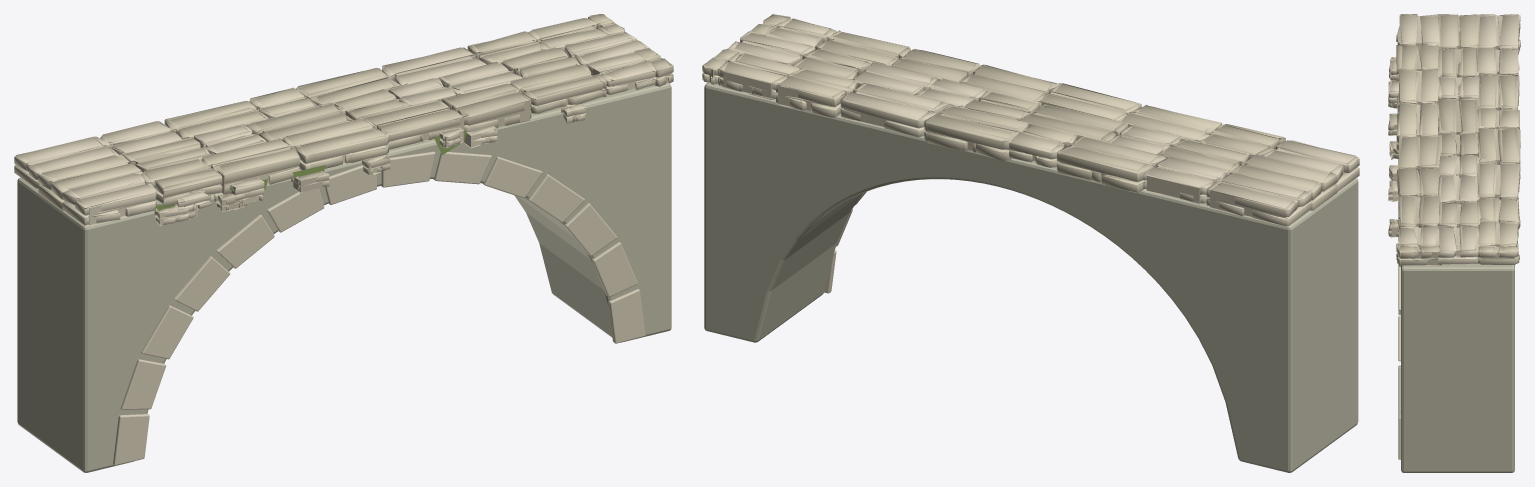
Rendered from bridge-11.glb.
3 views of the same model, side by side, from view 1: azimuth 30°, elevation 25°; view 2: azimuth 150°, elevation 25°; view 3: azimuth 270°, elevation 25° (orthographic). The views are drawn at different scales.
Parts seen in each view (by area): view 1: Continuous arch foundation.010, CC0 worn paving.207, CC0 worn paving.204, CC0 worn paving.206, CC0 worn paving.208, CC0 worn paving.210, CC0 worn paving.209, CC0 worn paving.222, CC0 worn paving.213, CC0 worn paving.205, CC0 worn paving.227, CC0 worn paving.226 (+29 smaller); view 2: Continuous arch foundation.010, CC0 worn paving.224, CC0 worn paving.222, CC0 worn paving.226, CC0 worn paving.227, CC0 worn paving.228, CC0 worn paving.223, CC0 worn paving.213, CC0 worn paving.229, CC0 worn paving.204, CC0 worn paving.216, CC0 worn paving.207 (+14 smaller); view 3: Continuous arch foundation.010, CC0 worn paving.221, CC0 worn paving.227, CC0 worn paving.226, CC0 worn paving.222, CC0 worn paving.216, CC0 worn paving.224, CC0 worn paving.207, CC0 worn paving.208, CC0 worn paving.206, CC0 worn paving.213, CC0 worn paving.210 (+22 smaller).
Boxes of the visible parts, bbox=[...] form: Continuous arch foundation.010: bbox=[17, 83, 671, 472]; CC0 worn paving.207: bbox=[282, 118, 388, 170]; CC0 worn paving.204: bbox=[62, 173, 156, 226]; CC0 worn paving.206: bbox=[202, 138, 299, 194]; CC0 worn paving.208: bbox=[362, 99, 464, 149]; CC0 worn paving.210: bbox=[510, 65, 606, 114]; CC0 worn paving.209: bbox=[441, 83, 531, 132]; CC0 worn paving.222: bbox=[14, 136, 119, 189]; CC0 worn paving.213: bbox=[38, 154, 142, 210]; CC0 worn paving.205: bbox=[141, 158, 222, 206]; CC0 worn paving.227: bbox=[382, 47, 486, 86]; CC0 worn paving.226: bbox=[295, 68, 402, 106]; Continuous arch foundation.010: bbox=[704, 82, 1358, 472]; CC0 worn paving.224: bbox=[1056, 136, 1166, 193]; CC0 worn paving.222: bbox=[1206, 172, 1311, 226]; CC0 worn paving.226: bbox=[924, 104, 1029, 161]; CC0 worn paving.227: bbox=[840, 83, 948, 137]; CC0 worn paving.228: bbox=[776, 68, 857, 117]; CC0 worn paving.223: bbox=[1143, 156, 1230, 204]; CC0 worn paving.213: bbox=[1229, 154, 1337, 210]; CC0 worn paving.229: bbox=[717, 53, 799, 99]; CC0 worn paving.204: bbox=[1261, 140, 1359, 191]; CC0 worn paving.216: bbox=[1021, 104, 1128, 141]; CC0 worn paving.207: bbox=[1038, 83, 1141, 120]; Continuous arch foundation.010: bbox=[1401, 263, 1514, 472]; CC0 worn paving.221: bbox=[1437, 225, 1480, 264]; CC0 worn paving.227: bbox=[1477, 161, 1520, 200]; CC0 worn paving.226: bbox=[1478, 127, 1520, 164]; CC0 worn paving.222: bbox=[1477, 14, 1520, 54]; CC0 worn paving.216: bbox=[1437, 97, 1479, 139]; CC0 worn paving.224: bbox=[1476, 73, 1519, 110]; CC0 worn paving.207: bbox=[1396, 103, 1438, 150]; CC0 worn paving.208: bbox=[1398, 135, 1441, 169]; CC0 worn paving.206: bbox=[1397, 69, 1440, 111]; CC0 worn paving.213: bbox=[1436, 14, 1478, 49]; CC0 worn paving.210: bbox=[1398, 195, 1440, 231].
Size of the model in its own units: 11 by 4.78 by 2.58.
